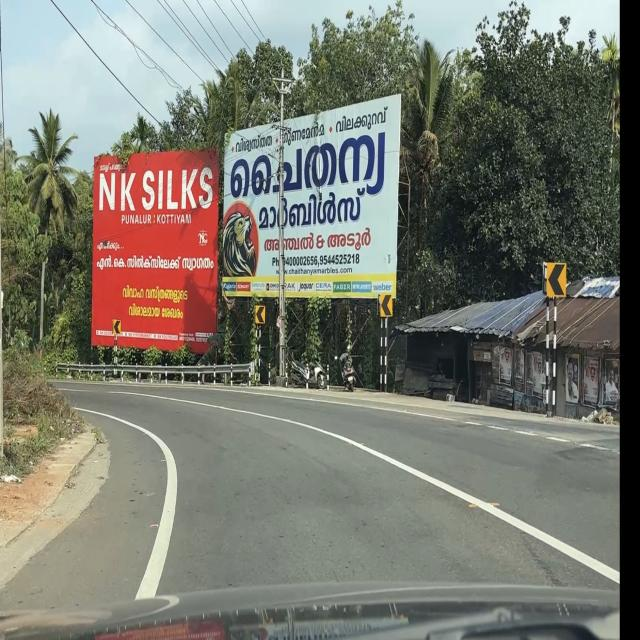TURN_LEFT: (546, 262, 567, 298), (380, 294, 393, 317), (256, 305, 266, 324), (113, 320, 121, 334)
